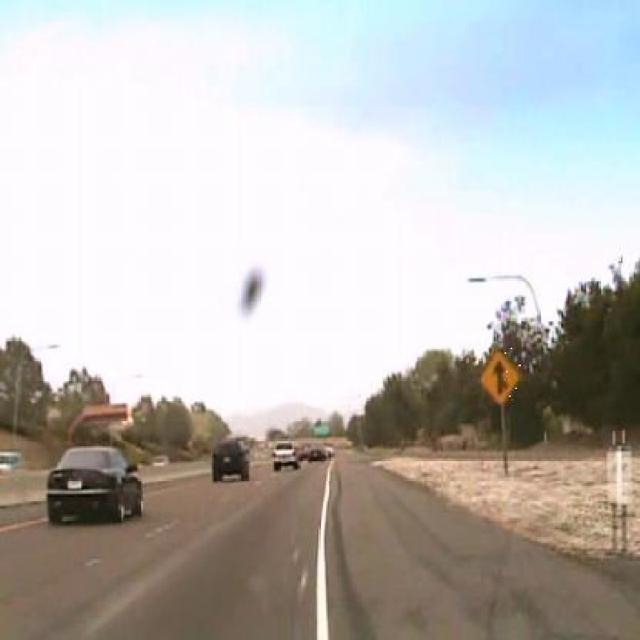merge: (480, 348, 523, 406)
